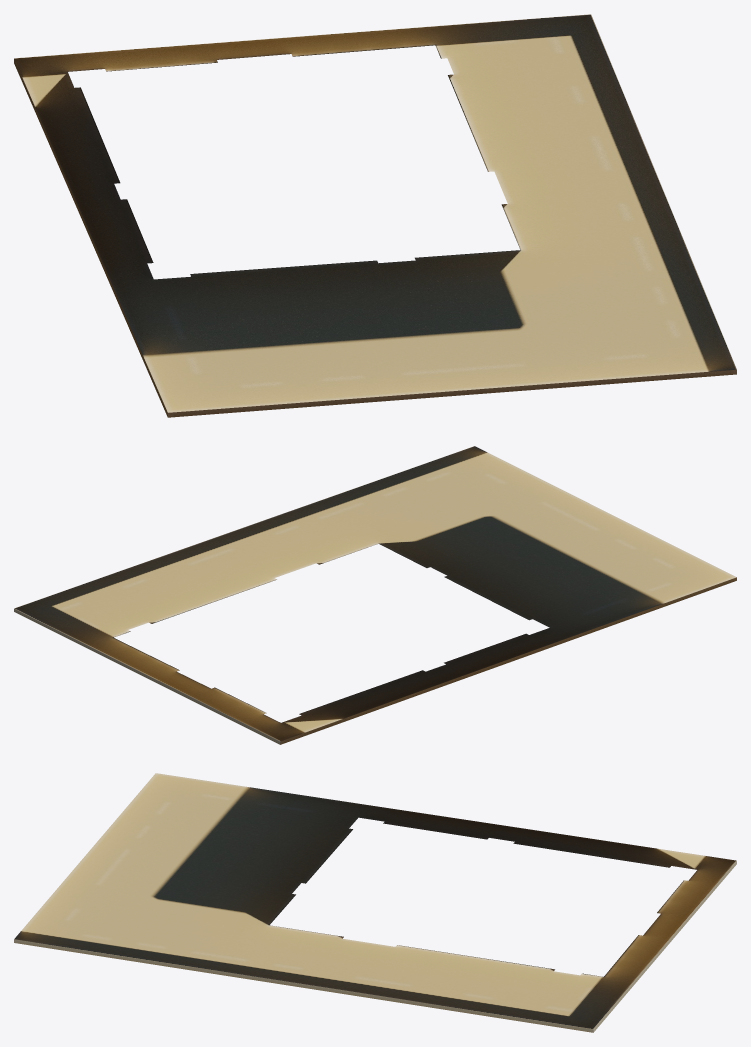
Rendered from Building_04_Rooftop.fbx.
3 renders of one model, top to bottom at view 1: azimuth 30°, elevation 25°; view 2: azimuth 150°, elevation 25°; view 3: azimuth 270°, elevation 25°, orthographic. The views are drawn at different scales.
Visible parts, largest first — view 1: Building_04_Rooftop; view 2: Building_04_Rooftop; view 3: Building_04_Rooftop.
Part boxes in pixels (left/top/right/bottom): Building_04_Rooftop: left=14, top=14, right=736, bottom=417; Building_04_Rooftop: left=14, top=446, right=736, bottom=744; Building_04_Rooftop: left=14, top=773, right=736, bottom=1032.
Bounding box in the file's own units: 26 × 0.1664 × 31.
Materials: 1 (1 with a texture image).
